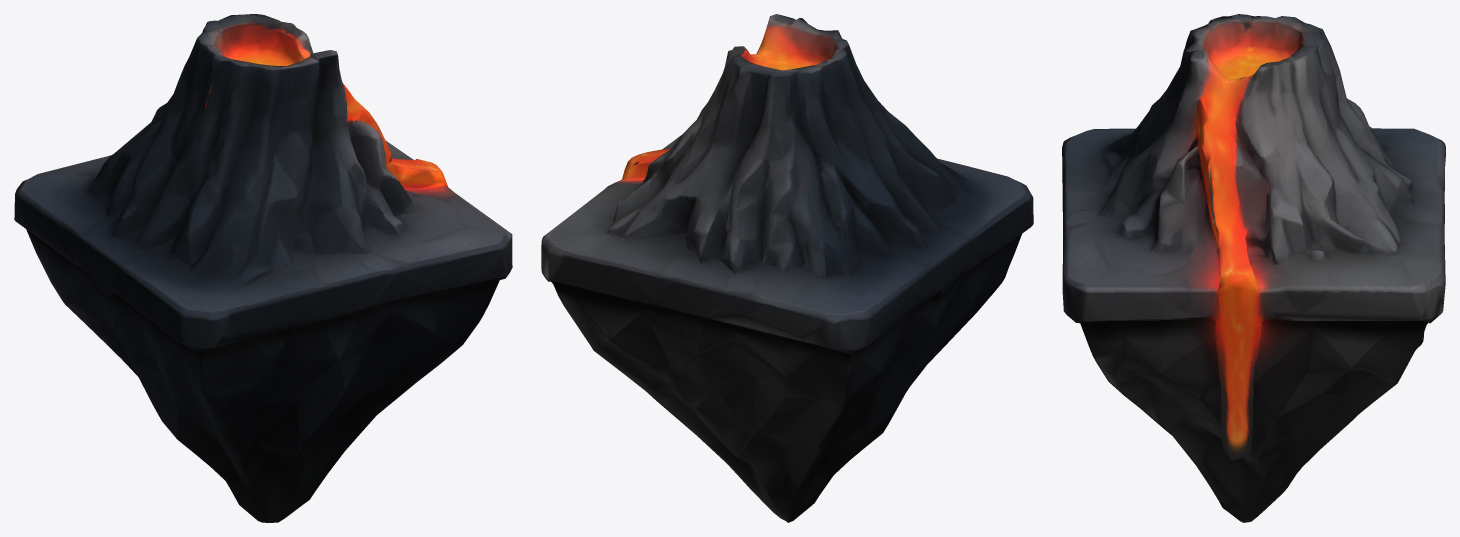
The model's file is volcano.glb.
3 renders of one model, left to right at view 1: azimuth 30°, elevation 25°; view 2: azimuth 150°, elevation 25°; view 3: azimuth 270°, elevation 25°, orthographic.
Parts seen in each view (by area): view 1: geometry_0; view 2: geometry_0; view 3: geometry_0.
Part boxes in pixels (x1,y1,x2,y2): geometry_0: (14, 14, 512, 522); geometry_0: (541, 14, 1033, 522); geometry_0: (1062, 14, 1445, 522).
Size of the model in its own units: 0.7318 by 1 by 0.7258.
Materials: 1 (1 with a texture image).
